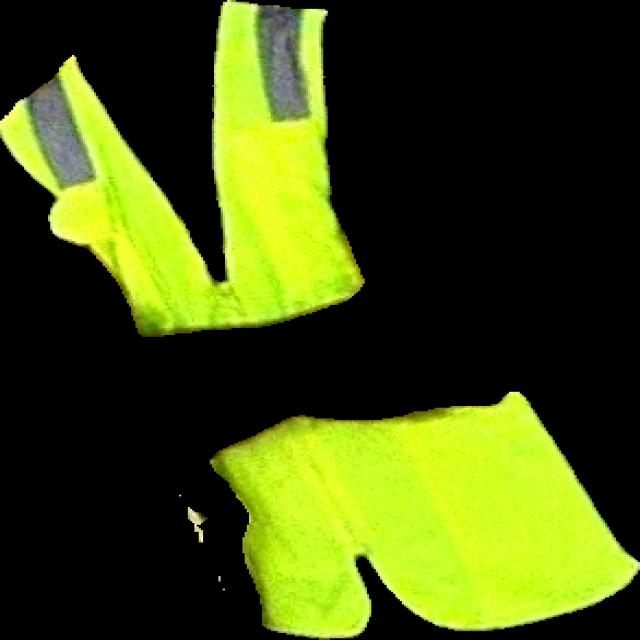Colete: (0, 0, 364, 336)
